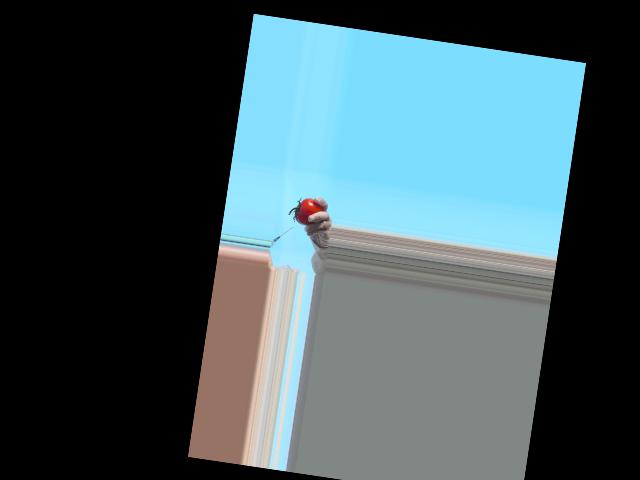tomato: (293, 196, 324, 227)
